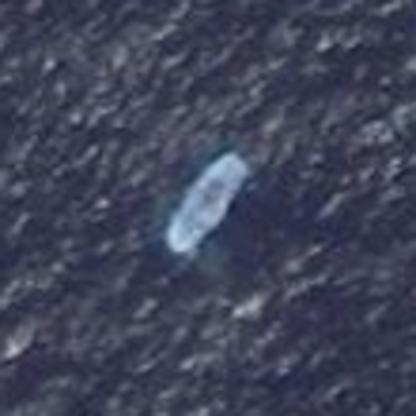ship: (158, 146, 255, 260)
